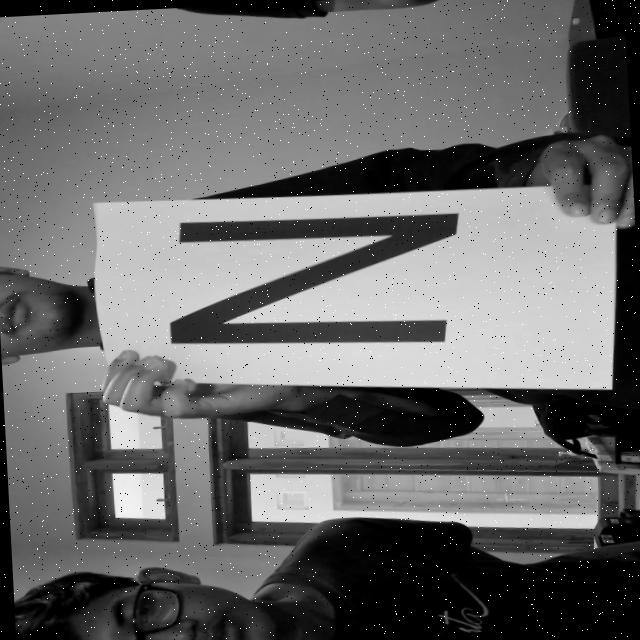n: (138, 194, 516, 361)
